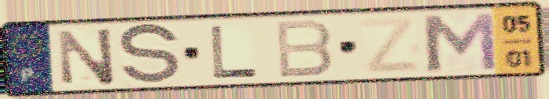B: (272, 18, 336, 81)
L: (208, 24, 261, 80)
M: (417, 10, 501, 74)
N: (54, 26, 119, 87)
S: (116, 21, 184, 89)
Z: (356, 14, 425, 75)
